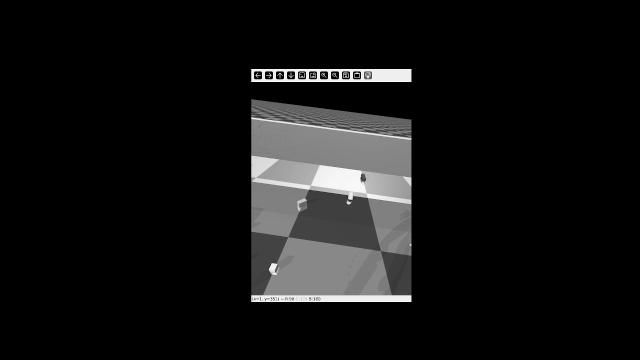cilindro: (346, 189, 358, 203), (358, 173, 367, 186)
cuadrado: (265, 259, 281, 274)
rectangulo: (291, 195, 310, 211)
